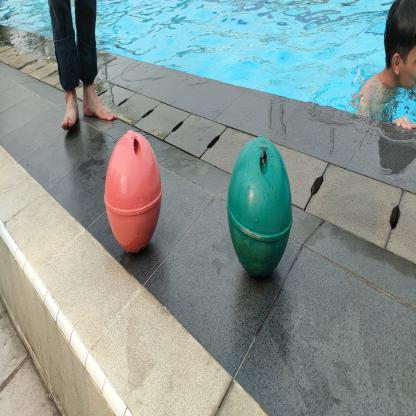green_buoy: (223, 131, 297, 284)
red_buoy: (102, 124, 165, 259)
